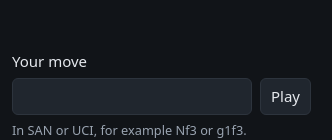
Test case: PuzzleBoard › the text field › hands a legal move (Nxd4) to the callback with the position it was played from
(page scrolled)
Type "Nxd4" into the field labelled "Your move". click: {"x": 132, "y": 96}
box: top-left (12, 78), bottom-right (252, 114)
Then press Enter
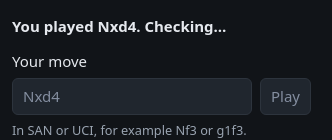
Expected: the message with test id "puzzle-status" reads "You played Nxd4. Checking…", top-left (12, 16), bottom-right (226, 36)
Expected: the field labelled "Your move" is disabled, top-left (12, 78), bottom-right (252, 114)
